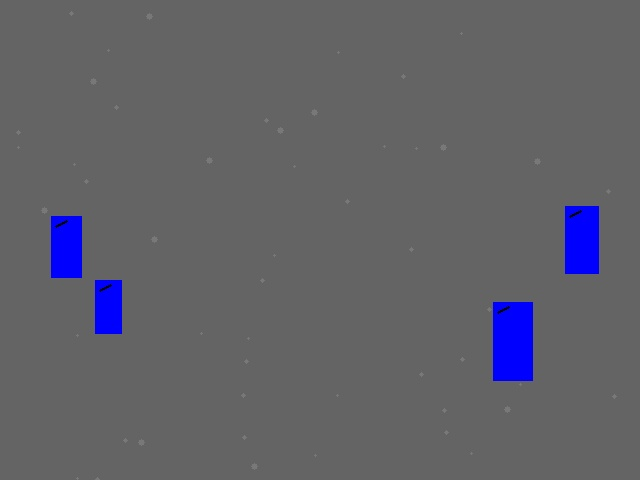motorcycle: (493, 302, 532, 380), (565, 206, 598, 273), (51, 216, 81, 277), (95, 280, 121, 333)
